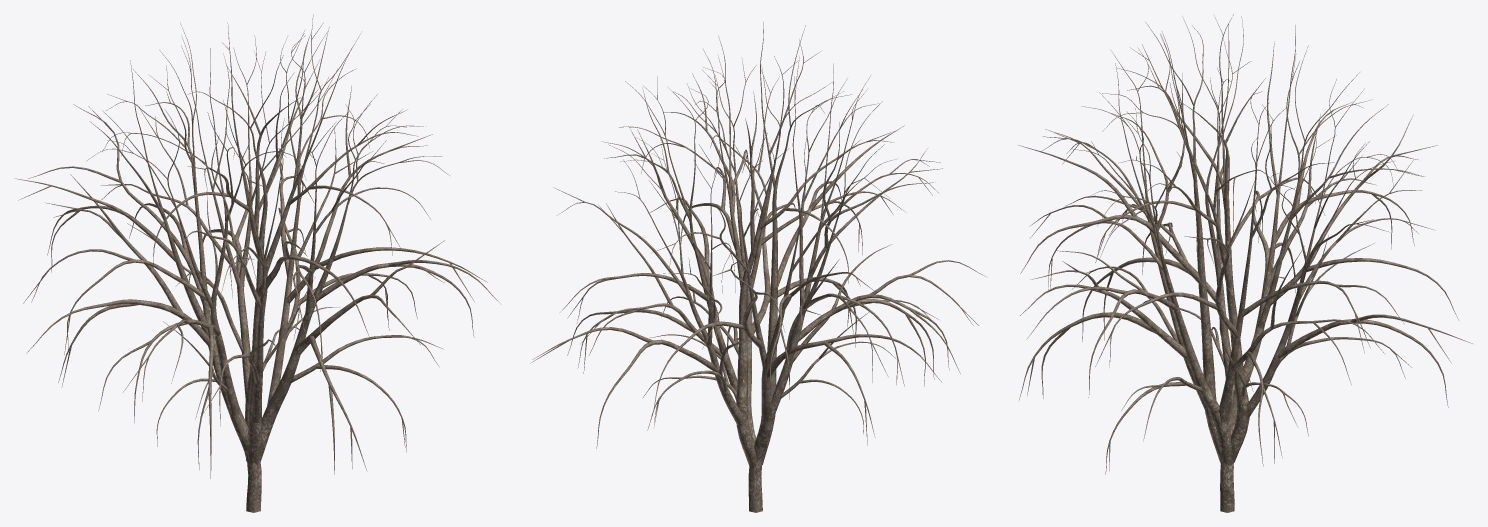
Rendered from adrien_tree.gltf.
3 renders of one model, left to right at view 1: azimuth 30°, elevation 25°; view 2: azimuth 150°, elevation 25°; view 3: azimuth 270°, elevation 25°, orthographic. The views are drawn at different scales.
Parts seen in each view (by area): view 1: tree; view 2: tree; view 3: tree.
Part boxes in pixels (box(x1,y1,x2,y2)): tree: box(14, 14, 501, 512); tree: box(530, 22, 986, 512); tree: box(1018, 14, 1472, 512).
Bounding box in the file's own units: 5.41 × 6.48 × 5.47.
1 material, 1 textured.
